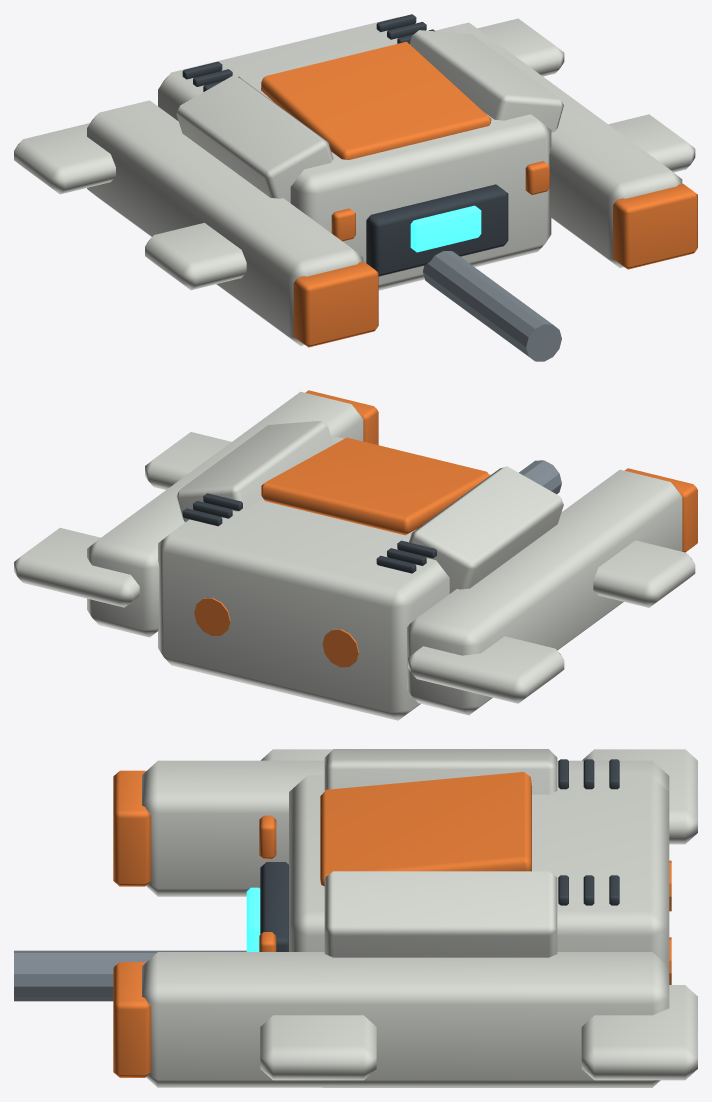
The model's file is VXDR_INTERCEPT_v002_DRONE.fbx.
3 renders of one model, top to bottom at view 1: azimuth 30°, elevation 25°; view 2: azimuth 150°, elevation 25°; view 3: azimuth 270°, elevation 25°, orthographic. The views are drawn at different scales.
Visible parts, largest first — view 1: Armored sensor shell, Interceptor pylon, Top identification, Interceptor pylon.001, Sloped cheek armor, Sloped cheek armor.001, Sensor recess, Interceptor barrel, Pylon nose, Pylon nose.001, Foldable stabilizer.001, Foldable stabilizer (+5 smaller); view 2: Armored sensor shell, Interceptor pylon, Top identification, Interceptor pylon.001, Sloped cheek armor, Foldable stabilizer.001, Sloped cheek armor.001, Foldable stabilizer.003, Foldable stabilizer, Foldable stabilizer.002, Pylon nose, Dock contact (+3 smaller); view 3: Interceptor pylon.001, Armored sensor shell, Sloped cheek armor.001, Interceptor pylon, Top identification, Foldable stabilizer.003, Sloped cheek armor, Foldable stabilizer.002, Interceptor barrel, Pylon nose, Pylon nose.001, Foldable stabilizer.001 (+4 smaller).
Boxes of the visible parts, left/top/right/bottom form: Armored sensor shell: left=158, top=17, right=551, bottom=290; Interceptor pylon: left=87, top=100, right=363, bottom=345; Top identification: left=261, top=41, right=491, bottom=159; Interceptor pylon.001: left=435, top=22, right=682, bottom=267; Sloped cheek armor: left=176, top=75, right=333, bottom=202; Sloped cheek armor.001: left=410, top=30, right=563, bottom=132; Sensor recess: left=366, top=184, right=508, bottom=276; Interceptor barrel: left=423, top=251, right=561, bottom=361; Pylon nose: left=293, top=261, right=378, bottom=347; Pylon nose.001: left=613, top=183, right=697, bottom=269; Foldable stabilizer.001: left=14, top=123, right=115, bottom=194; Foldable stabilizer: left=145, top=223, right=246, bottom=290; Armored sensor shell: left=158, top=435, right=490, bottom=720; Interceptor pylon: left=407, top=469, right=682, bottom=715; Top identification: left=261, top=437, right=489, bottom=535; Interceptor pylon.001: left=87, top=391, right=363, bottom=637; Sloped cheek armor: left=409, top=466, right=563, bottom=593; Foldable stabilizer.001: left=408, top=636, right=564, bottom=703; Sloped cheek armor.001: left=176, top=421, right=333, bottom=522; Foldable stabilizer.003: left=14, top=528, right=139, bottom=607; Foldable stabilizer: left=593, top=540, right=695, bottom=607; Foldable stabilizer.002: left=145, top=432, right=231, bottom=489; Pylon nose: left=624, top=468, right=697, bottom=552; Dock contact: left=322, top=629, right=358, bottom=667; Interceptor pylon.001: left=142, top=952, right=669, bottom=1087; Armored sensor shell: left=289, top=775, right=669, bottom=966; Sloped cheek armor.001: left=324, top=871, right=557, bottom=957; Interceptor pylon: left=142, top=760, right=669, bottom=896; Top identification: left=320, top=772, right=531, bottom=886; Foldable stabilizer.003: left=581, top=985, right=697, bottom=1080; Sloped cheek armor: left=324, top=749, right=557, bottom=794; Foldable stabilizer.002: left=260, top=1015, right=376, bottom=1080; Interceptor barrel: left=14, top=950, right=246, bottom=1001; Pylon nose: left=113, top=770, right=151, bottom=886; Pylon nose.001: left=113, top=962, right=151, bottom=1077; Foldable stabilizer.001: left=582, top=749, right=697, bottom=844.
Bounding box in the file's own units: 34.4 × 10.02 × 32.35.
